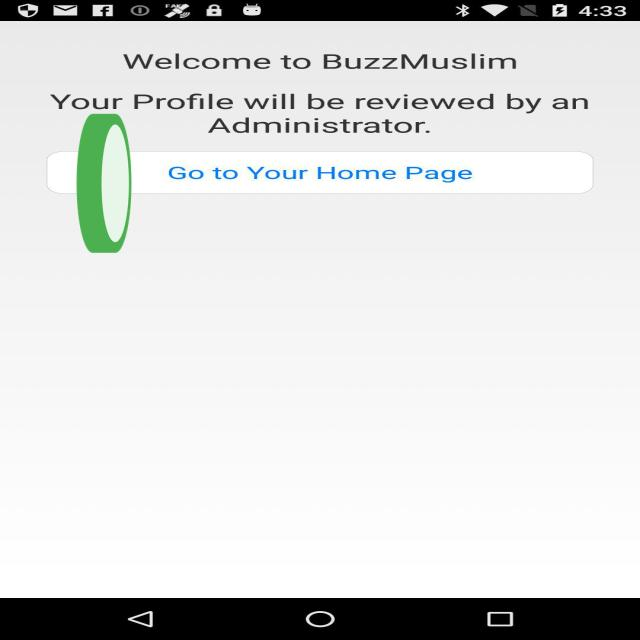social proof: (74, 60, 134, 317)
